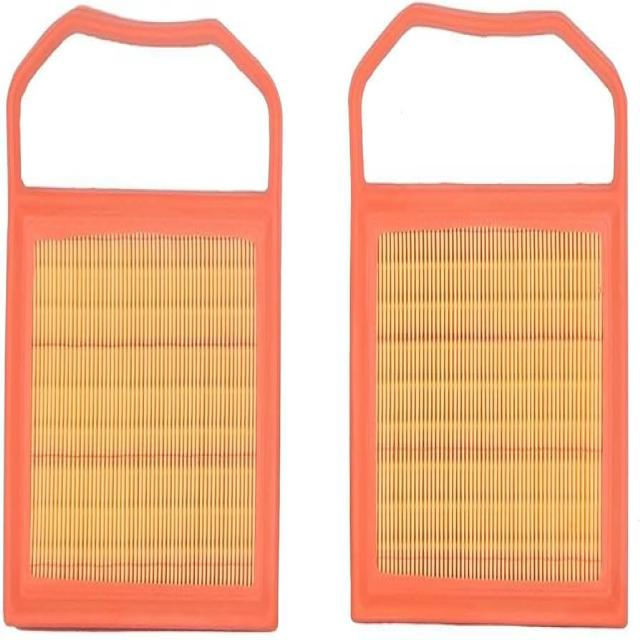air_filter: (347, 9, 640, 635), (1, 6, 289, 640)
